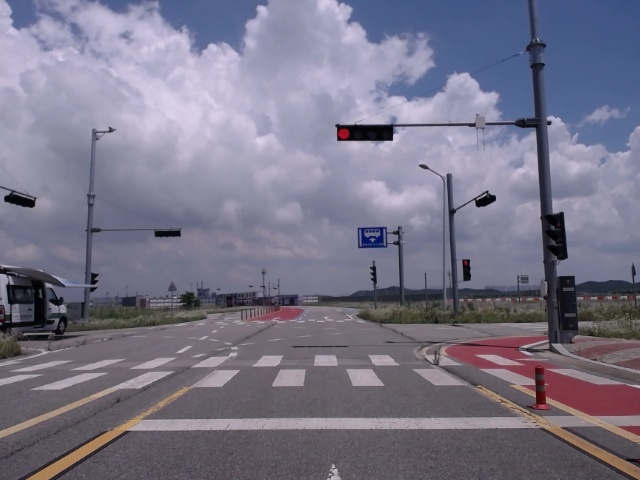red_4: (337, 126, 392, 141)
